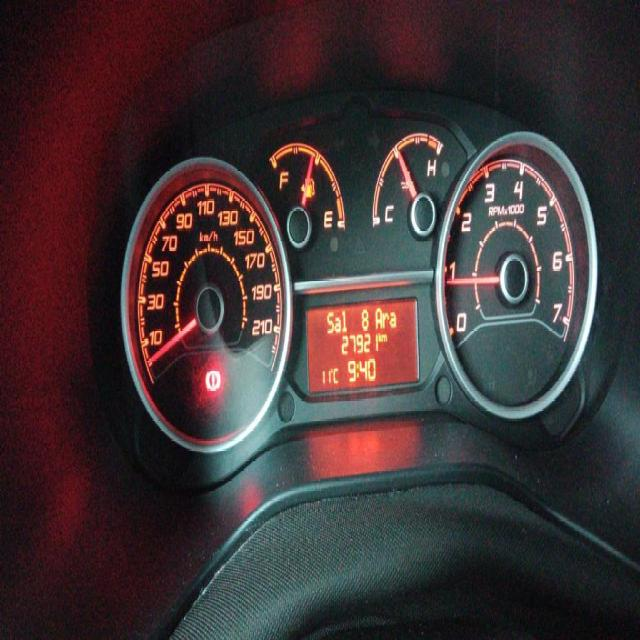odometer: (303, 294, 422, 396)
